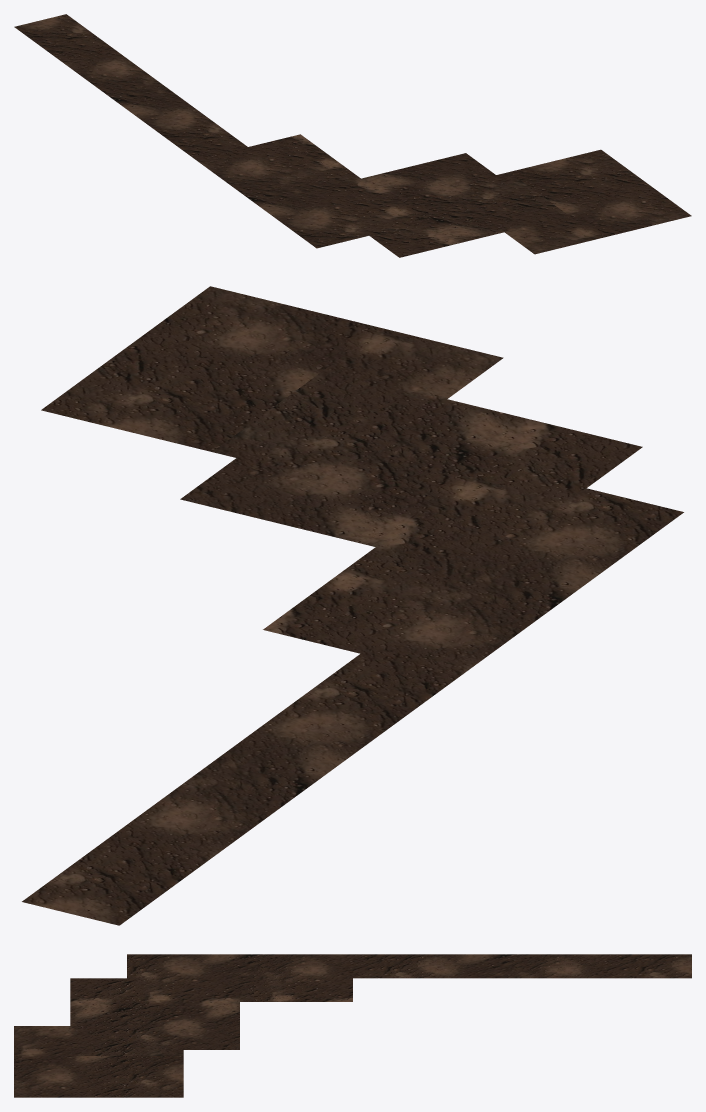
File: floor_3_-2.glb
The picture shows the model from 3 angles, top to bottom: view 1: azimuth 30°, elevation 25°; view 2: azimuth 150°, elevation 25°; view 3: azimuth 270°, elevation 25°; orthographic projection. The views are drawn at different scales.
Parts seen in each view (by area): view 1: floor_3_-2; view 2: floor_3_-2; view 3: floor_3_-2.
Boxes of the visible parts, x1,y1,x2,y2 form: floor_3_-2: (14, 14, 691, 257); floor_3_-2: (22, 286, 683, 925); floor_3_-2: (14, 954, 691, 1097).
Size of the model in its own units: 24 by 0 by 48.
Materials: 1 (1 with a texture image).
